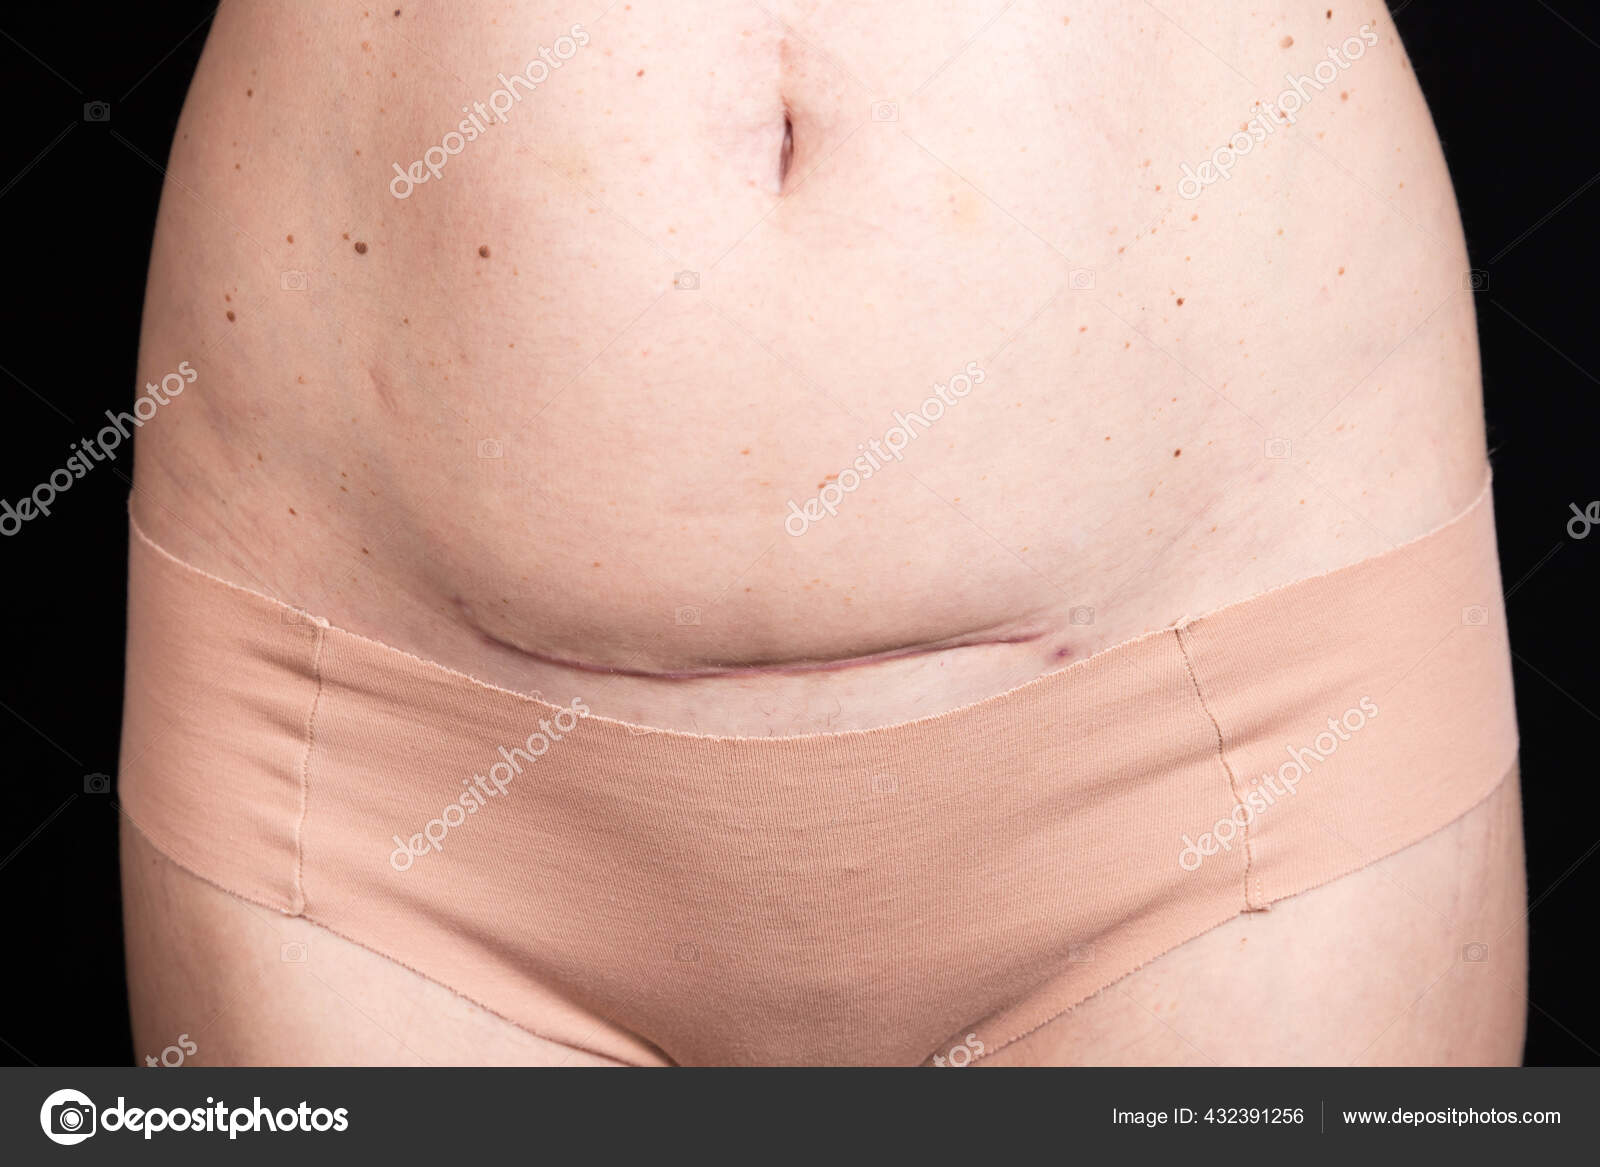scar: (439, 570, 1087, 691)
